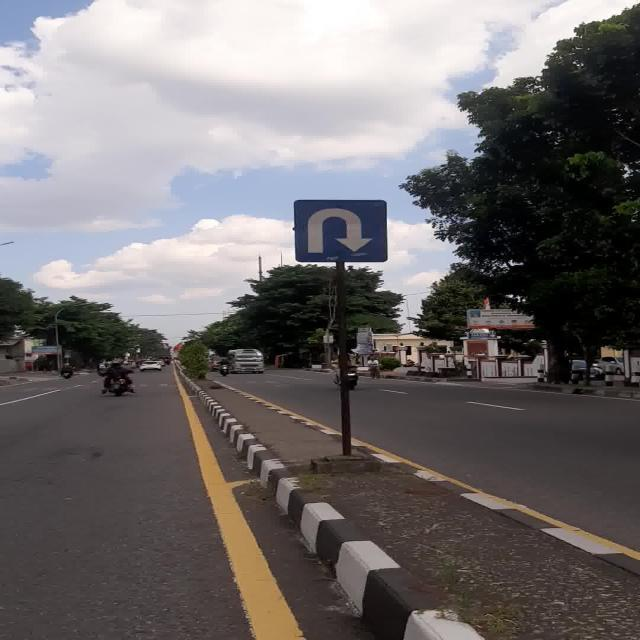Putar Balik: (294, 200, 388, 262)
